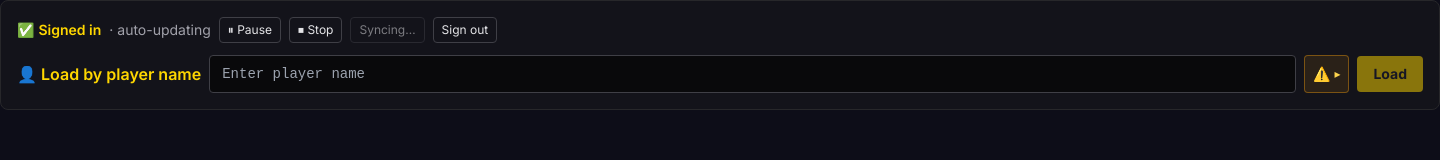
it: ProfileNameLoader — game account › Sign out during a load: the cancelled load shows no 'Session expired'
Click the button "Sign out".
click(465, 30)  # box [433,17,497,43]
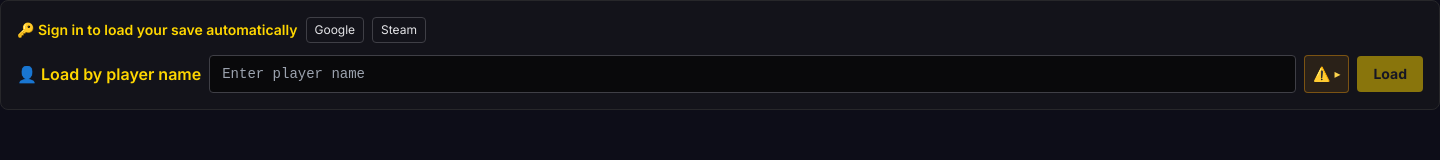
Now the text "🔑 Sign in to load your save automatically" is shown, box [17,20,298,40]
